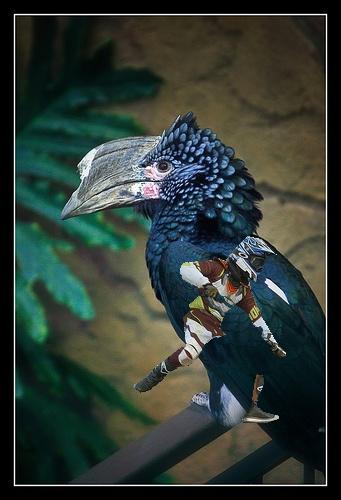tampered: (134, 237, 286, 423)
